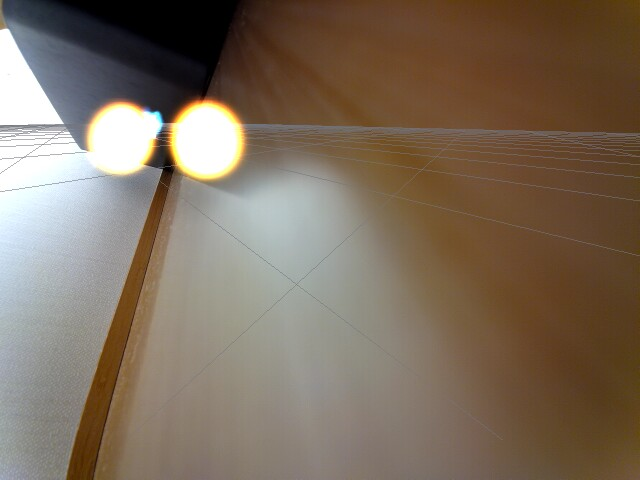firebig: (165, 88, 250, 187)
